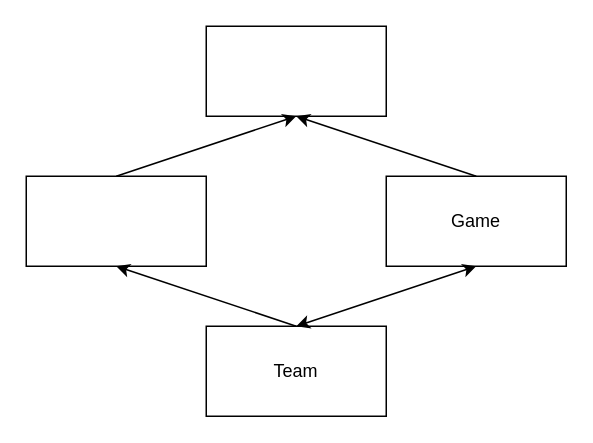
The diagram is 593 pixels wide and 443 high, and some of its shapes have lost their labels. Here are the shapes that lost their labels. From the top down, the centre of each, then its label:
At (x=295, y=70): "Performance".
At (x=115, y=220): "Player".
